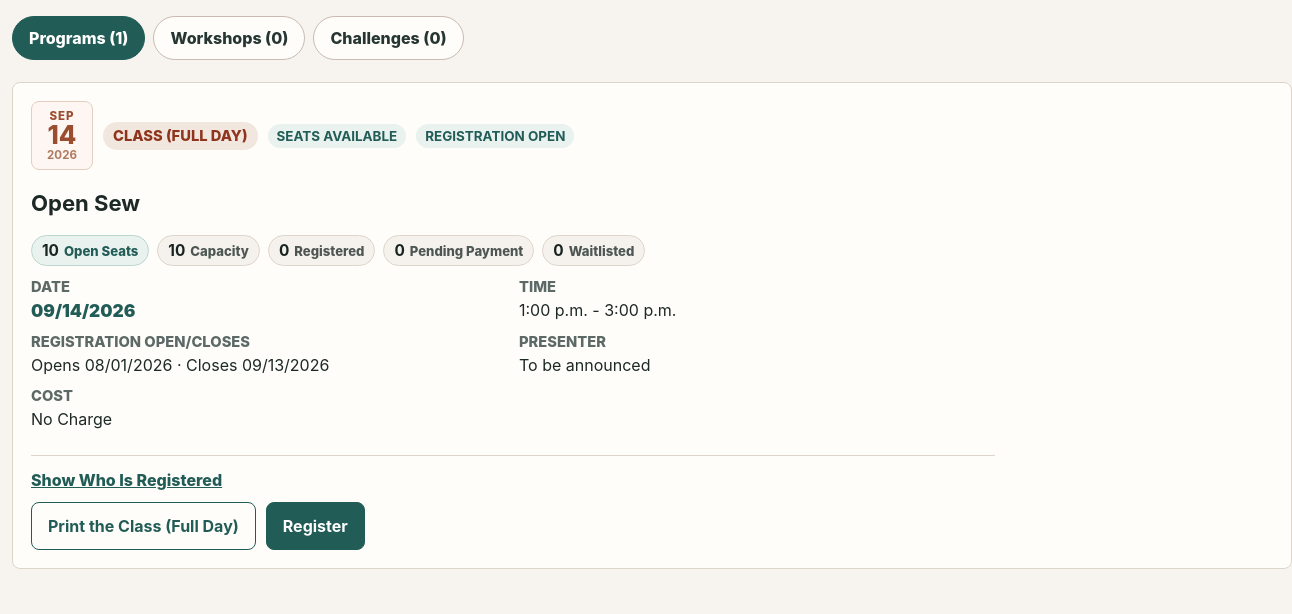
the registrant slideout on an event card › reveals the names on click
The width and height of the screenshot is (1292, 614).
What coordinates should you click on to do the following:
click the button "Show Who Is Registered"
I would click on:
 (127, 480)
Its box is [31,470,222,490].
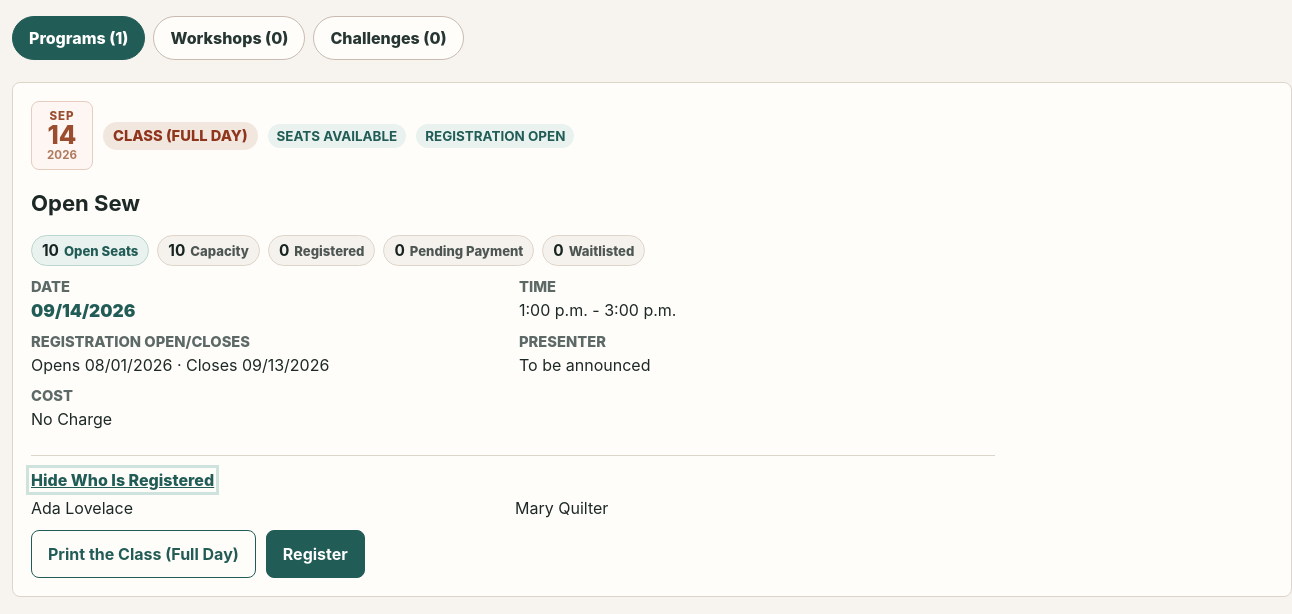
Result: the list item "Ada Lovelace" is shown at [31,498,133,518]
Result: the list item "Mary Quilter" is shown at [515,498,608,518]
